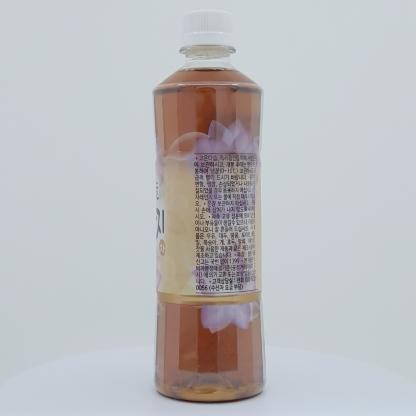------------500ML: (152, 9, 267, 403)
